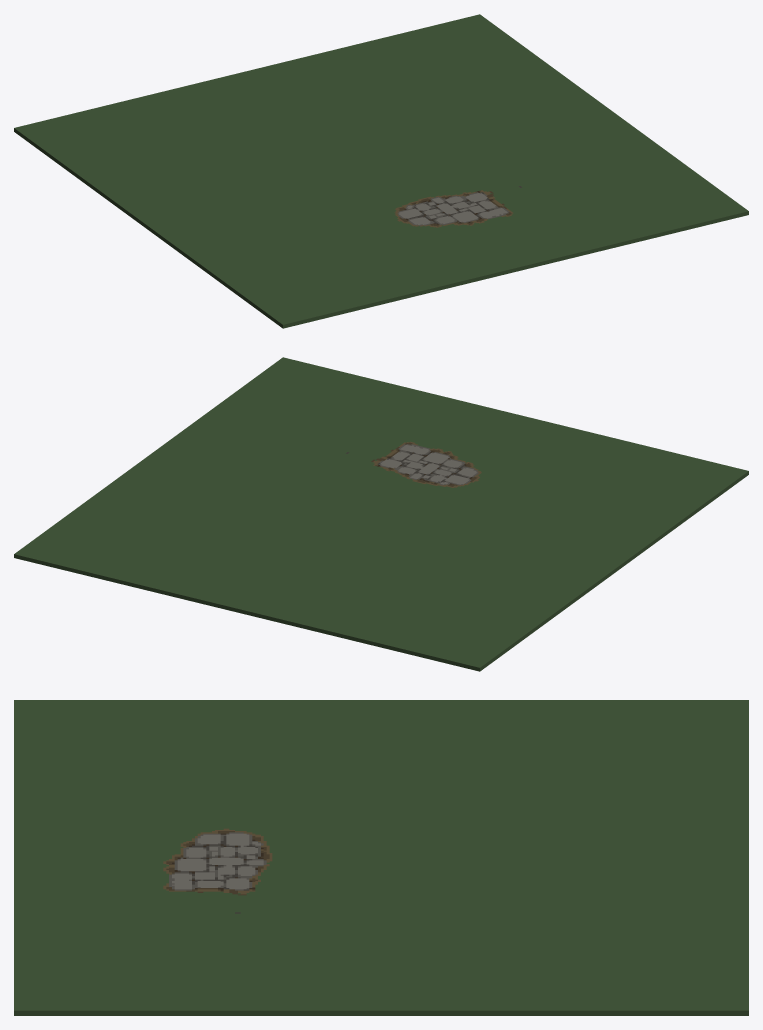
File: grassy_field-14-plane4.obj
The picture shows the model from 3 angles, top to bottom: view 1: azimuth 30°, elevation 25°; view 2: azimuth 150°, elevation 25°; view 3: azimuth 270°, elevation 25°; orthographic projection. The views are drawn at different scales.
Parts seen in each view (by area): view 1: plane4; view 2: plane4; view 3: plane4.
Boxes of the visible parts, x1,y1,x2,y2 form: plane4: [14, 14, 748, 328]; plane4: [14, 357, 748, 671]; plane4: [14, 700, 748, 1015].
Bounding box in the file's own units: 25.6 × 0.2 × 25.6.
1 material, 1 textured.
